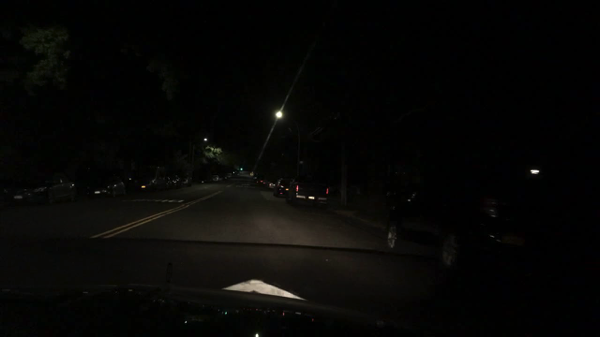car: (384, 178, 541, 272), (2, 175, 78, 207), (284, 179, 331, 209), (84, 172, 126, 199), (128, 168, 165, 194), (273, 181, 291, 197), (181, 174, 193, 189), (168, 176, 181, 189), (210, 175, 223, 182), (197, 177, 208, 184), (223, 172, 232, 180), (266, 183, 275, 190), (231, 170, 241, 176), (251, 174, 259, 180), (259, 181, 267, 187), (255, 180, 263, 185), (235, 168, 243, 172)
